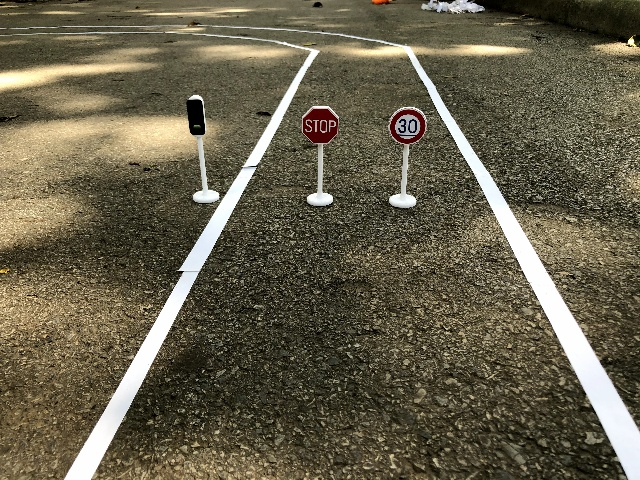Green Traffic Light: (181, 89, 213, 139)
Speed Limit 30: (386, 102, 431, 149)
Stop Sign: (297, 102, 345, 150)
